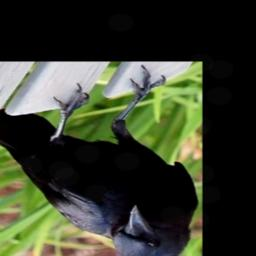Crow: (0, 64, 199, 256)
